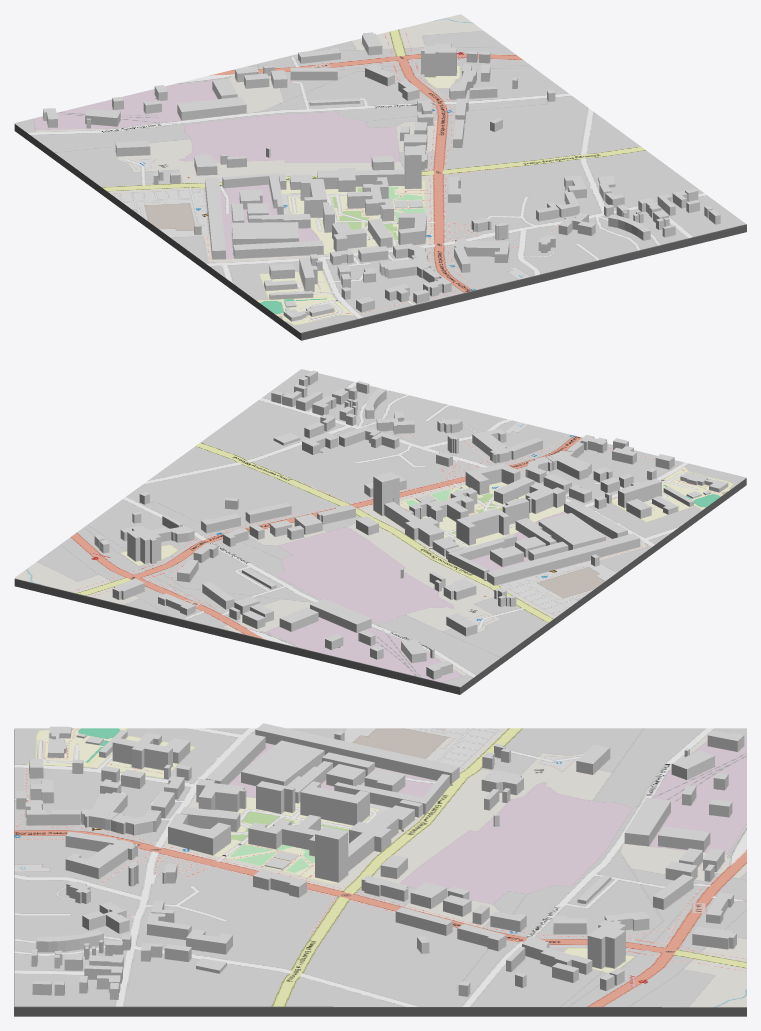
File: mapupper.glb
3 renders of one model, top to bottom at view 1: azimuth 30°, elevation 25°; view 2: azimuth 150°, elevation 25°; view 3: azimuth 270°, elevation 25°, orthographic. The views are drawn at different scales.
Visible parts, largest first — view 1: EXPORT_OSM_MAPNIK_WM, Areas:building, Cube, 1korp, 2korp, 6korp, 9korp, 3korp, 5korp; view 2: EXPORT_OSM_MAPNIK_WM, Areas:building, Cube, 1korp, 2korp, 3korp, 6korp, 9korp, 5korp, 8korp, 7korp; view 3: EXPORT_OSM_MAPNIK_WM, Areas:building, Cube, 2korp, 1korp, 3korp, 9korp, 6korp, 8korp, 5korp, 4korp, 7korp (+1 smaller).
Boxes of the visible parts, x1,y1,x2,y2 form: EXPORT_OSM_MAPNIK_WM: (14, 14, 745, 332); Areas:building: (43, 32, 720, 321); Cube: (14, 124, 746, 340); 1korp: (347, 177, 423, 221); 2korp: (355, 146, 421, 188); 6korp: (421, 43, 456, 77); 9korp: (398, 213, 426, 244); 3korp: (300, 179, 326, 217); 5korp: (332, 221, 366, 251); EXPORT_OSM_MAPNIK_WM: (14, 369, 746, 687); Areas:building: (94, 370, 728, 679); Cube: (14, 478, 746, 694); 1korp: (409, 487, 477, 522); 2korp: (373, 472, 419, 528); 3korp: (456, 508, 509, 545); 6korp: (127, 525, 161, 563); 9korp: (465, 463, 520, 494); 5korp: (525, 483, 565, 513); 8korp: (618, 478, 661, 507); 7korp: (494, 477, 534, 503); EXPORT_OSM_MAPNIK_WM: (14, 728, 746, 1007); Areas:building: (16, 723, 744, 999); Cube: (14, 729, 746, 1016); 2korp: (315, 826, 374, 882); 1korp: (248, 815, 322, 869); 3korp: (300, 781, 369, 825); 9korp: (168, 813, 230, 855); 6korp: (587, 920, 625, 968); 8korp: (112, 738, 172, 770); 5korp: (196, 779, 246, 811); 4korp: (256, 781, 295, 813); 7korp: (180, 807, 240, 831).
Bounding box in the file's own units: 1102 × 97.86 × 1224.
14 materials, 1 textured.
